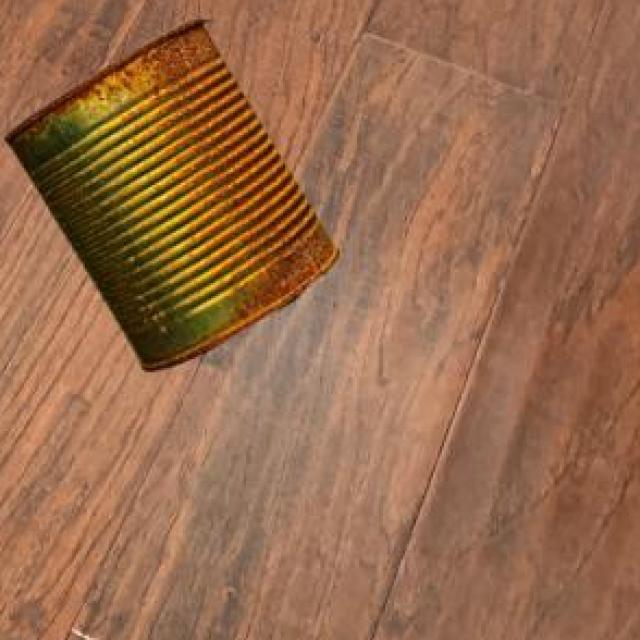logam: (10, 16, 343, 367)
